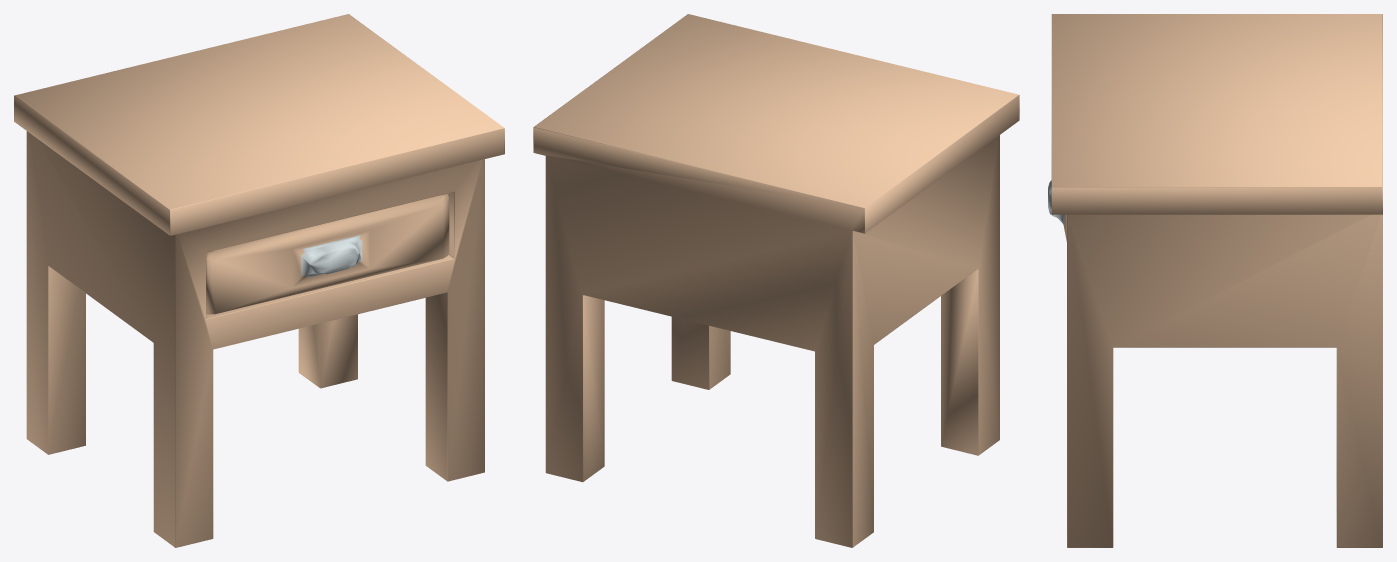
Rendered from nightstand.glb.
3 renders of one model, left to right at view 1: azimuth 30°, elevation 25°; view 2: azimuth 150°, elevation 25°; view 3: azimuth 270°, elevation 25°, orthographic. The views are drawn at different scales.
Parts seen in each view (by area): view 1: nightstand_cabinetBedDrawerTable(Clone), nightstand_drawer; view 2: nightstand_cabinetBedDrawerTable(Clone); view 3: nightstand_cabinetBedDrawerTable(Clone).
Boxes of the visible parts, box(x1,y1,x2,y2) form: nightstand_cabinetBedDrawerTable(Clone): box(14, 14, 504, 547); nightstand_drawer: box(206, 193, 449, 314); nightstand_cabinetBedDrawerTable(Clone): box(533, 14, 1019, 547); nightstand_cabinetBedDrawerTable(Clone): box(1051, 14, 1382, 547).
Size of the model in its own units: 0.7448 by 0.737 by 0.6084.
